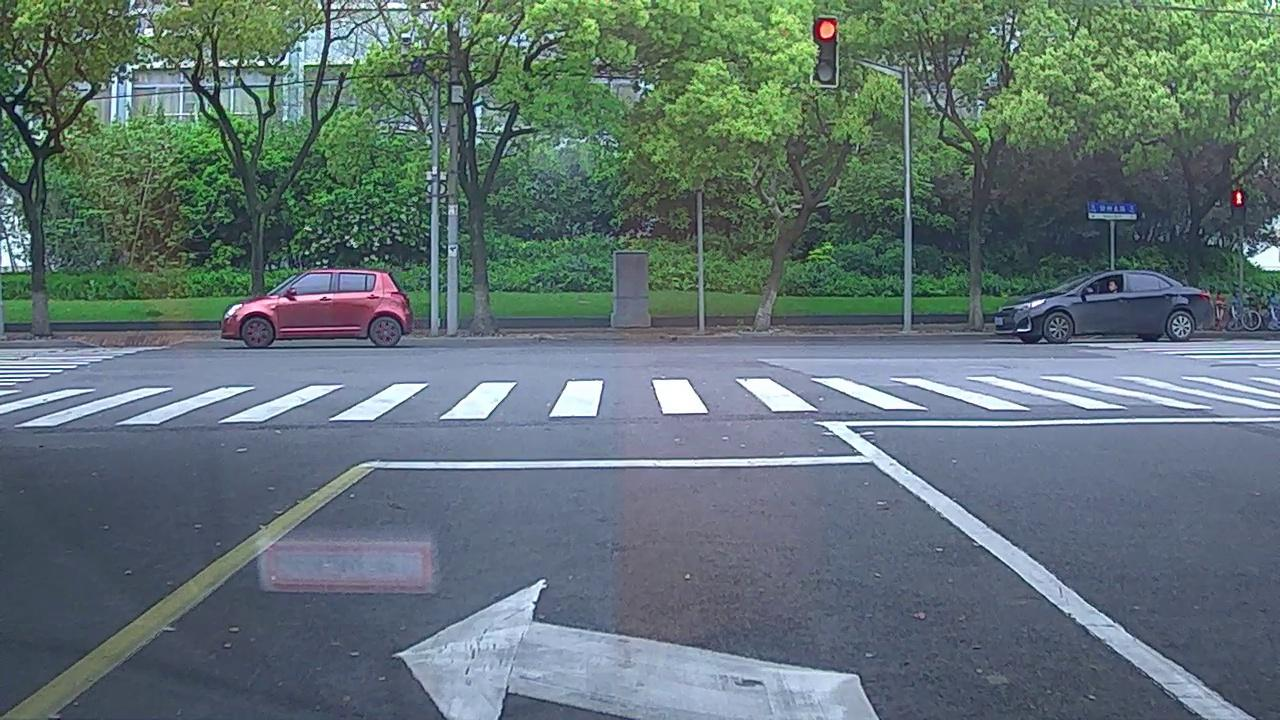traffic_light: (813, 17, 837, 84)
